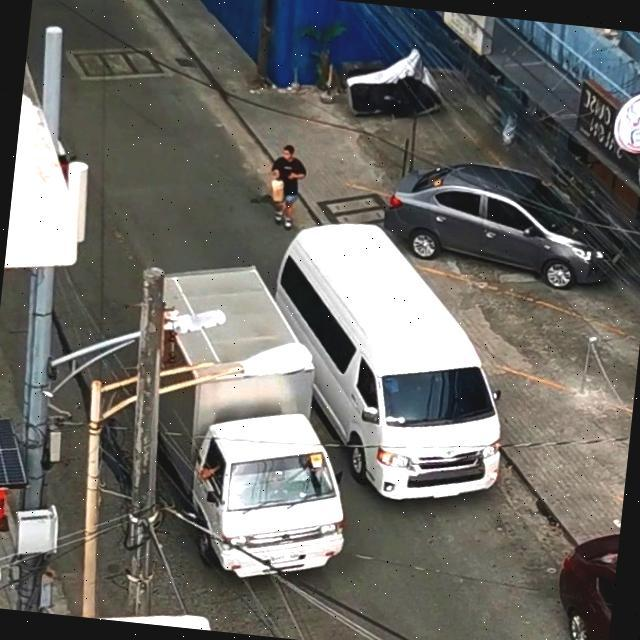Truck: (86, 260, 376, 590)
